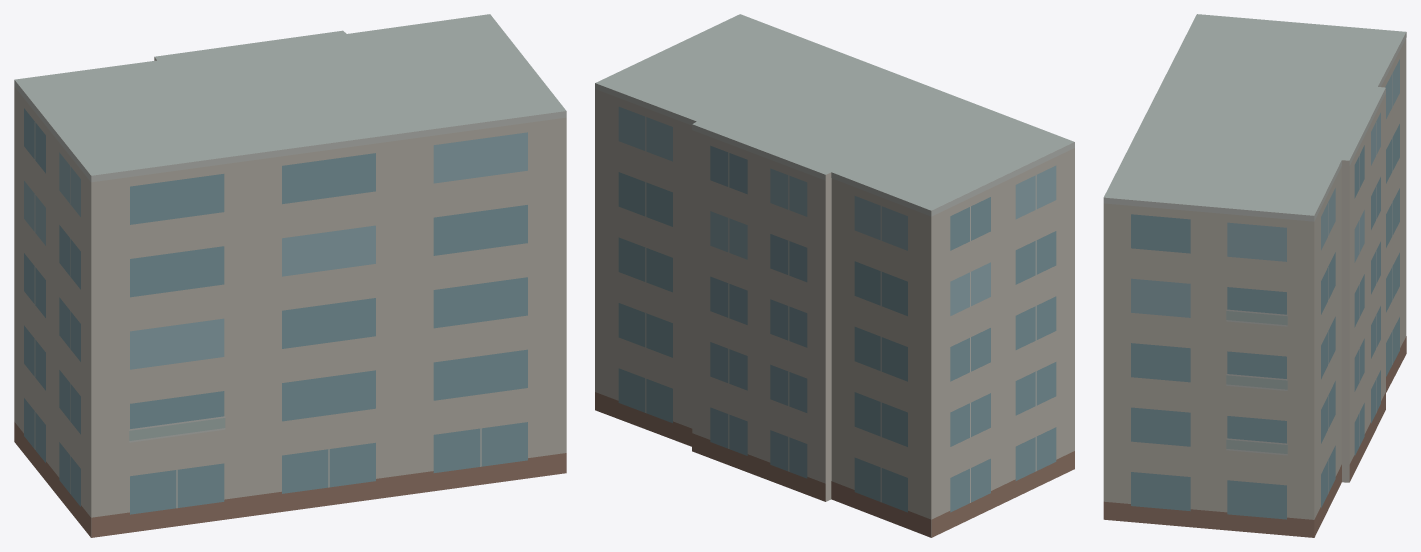
File: survey-upis-32649401.glb
3 views of the same model, side by side, from view 1: azimuth 30°, elevation 25°; view 2: azimuth 150°, elevation 25°; view 3: azimuth 270°, elevation 25° (orthographic). The views are drawn at different scales.
Visible parts, largest first — view 1: survey-upis-32649401.tmp; view 2: survey-upis-32649401.tmp; view 3: survey-upis-32649401.tmp.
Boxes of the visible parts, bbox=[...] form: survey-upis-32649401.tmp: bbox=[14, 14, 566, 537]; survey-upis-32649401.tmp: bbox=[595, 14, 1074, 537]; survey-upis-32649401.tmp: bbox=[1103, 14, 1406, 537].
Bounding box in the file's own units: 18.15 × 13.5 × 11.52.
